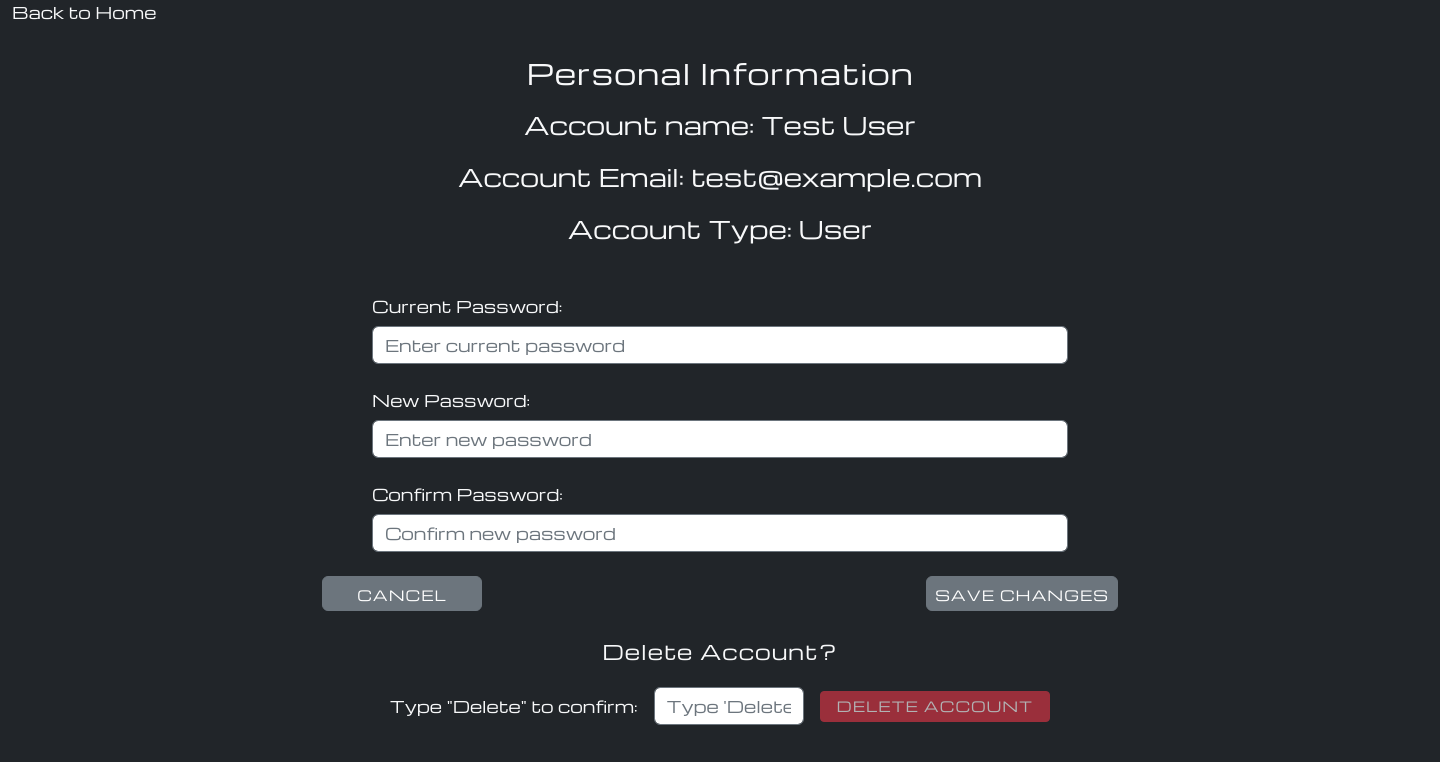
AccountSettings Component › handles delete account API error
(page scrolled)
Type correct confirmation
Type "Delete" into the field labelled "Type \"Delete\" to confirm:". click: (729, 706)
box: [654,687,804,725]
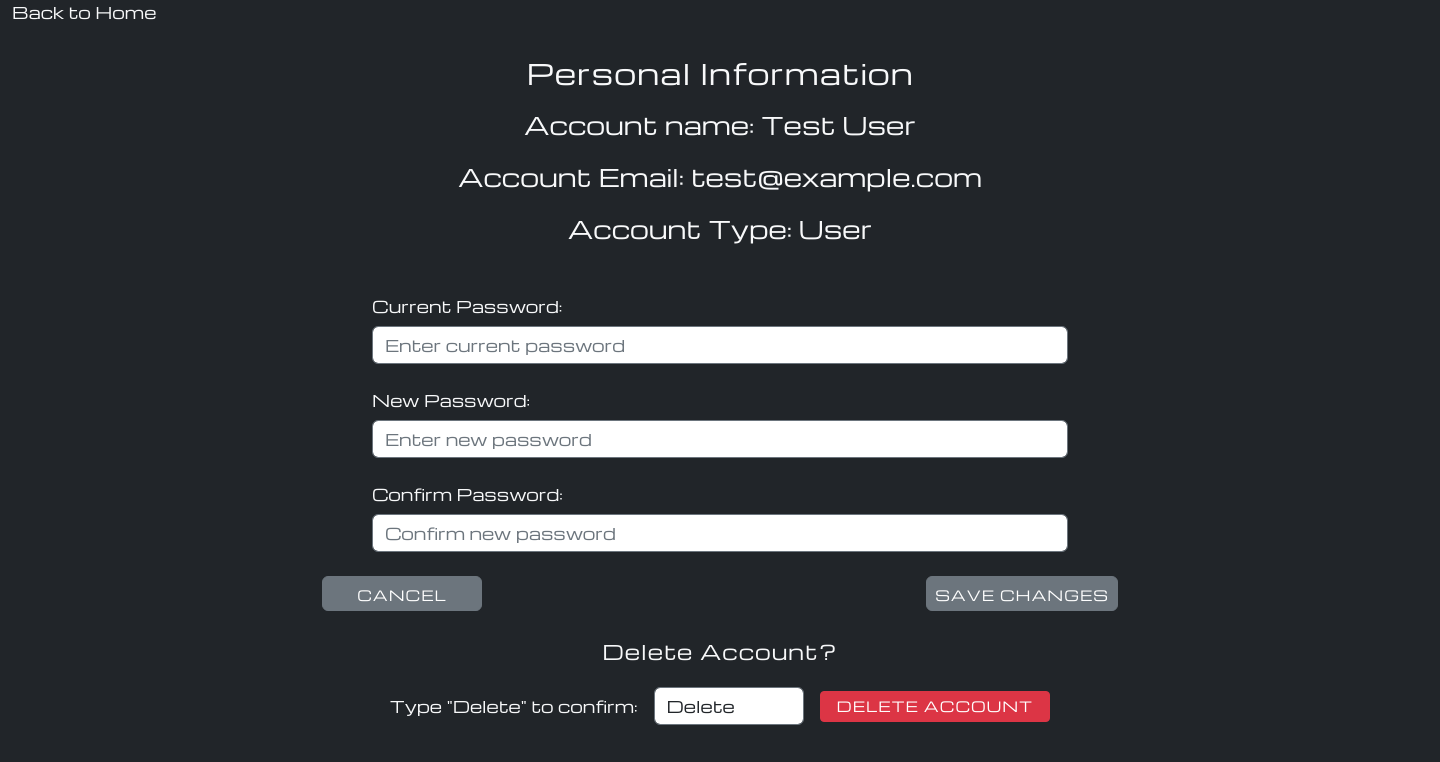
Click delete button
Click the button "Delete Account". click: (935, 706)
box: [820,690,1050,722]
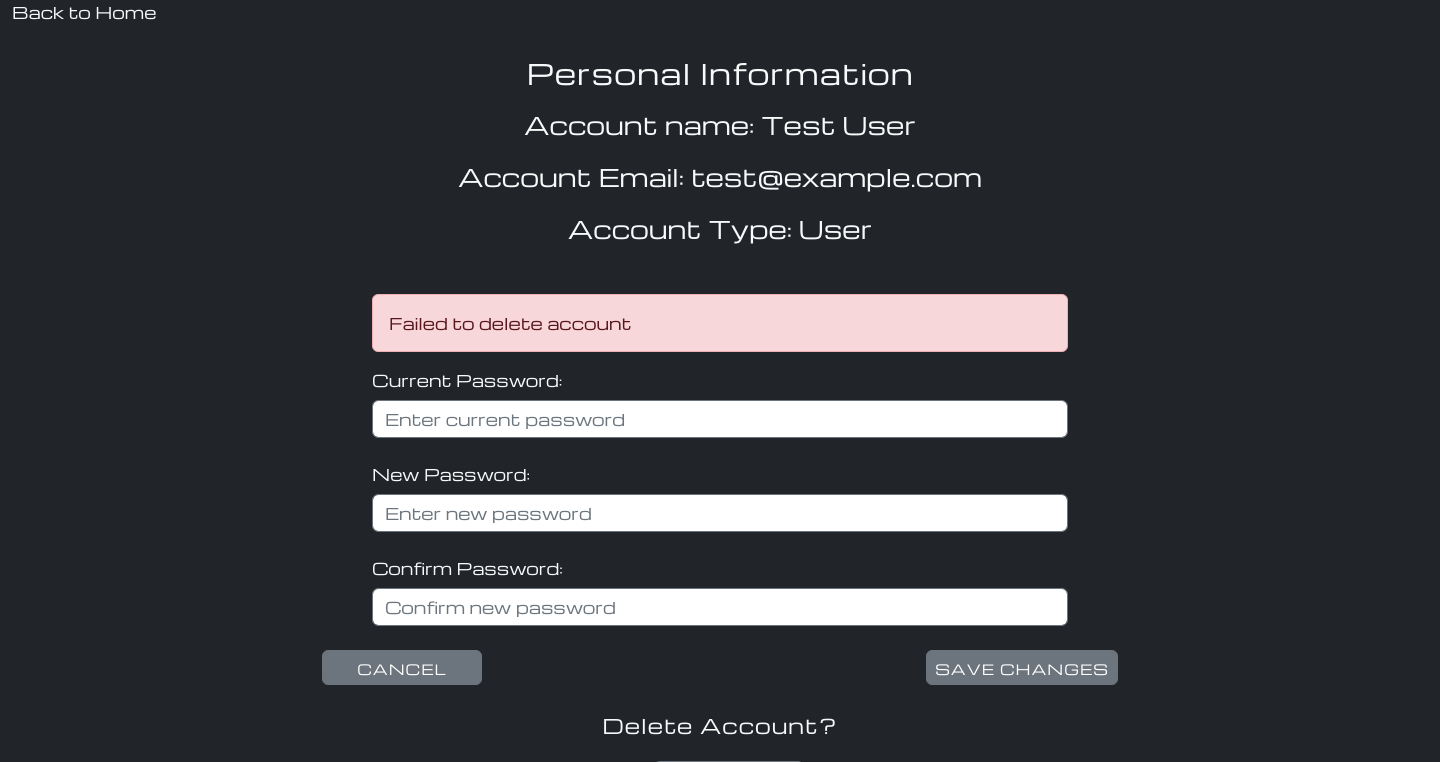
Result: the text "Failed to delete account" is shown at [372,294,1068,352]
